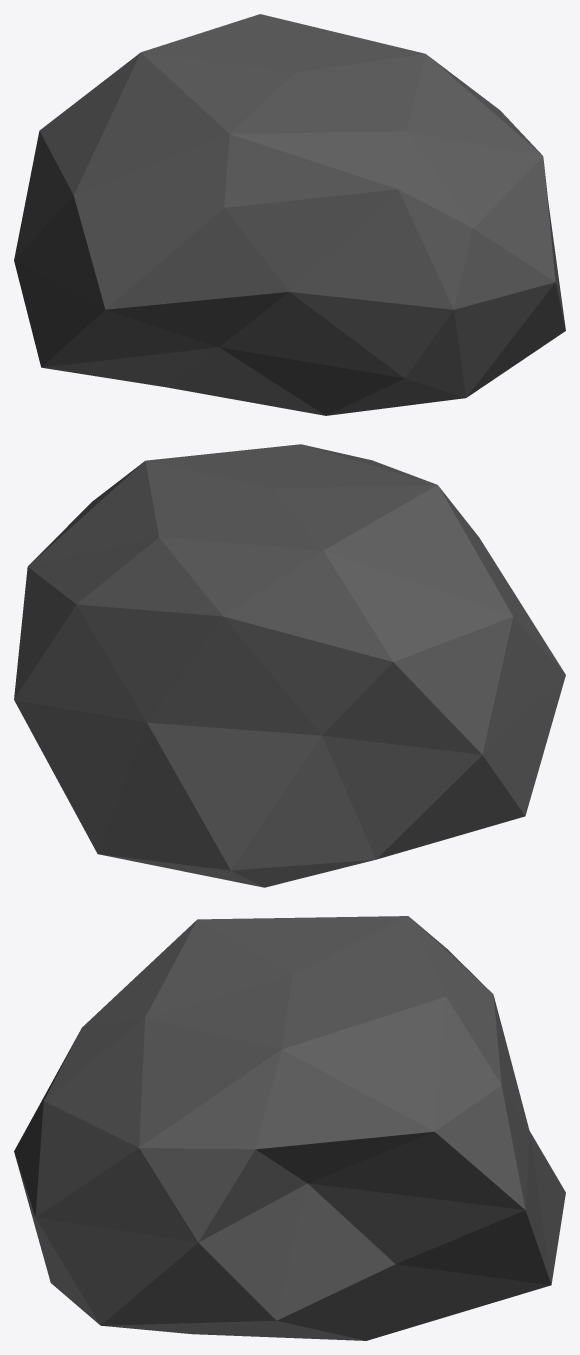
Rendered from stone1.fbx.
The picture shows the model from 3 angles, top to bottom: view 1: azimuth 30°, elevation 25°; view 2: azimuth 150°, elevation 25°; view 3: azimuth 270°, elevation 25°; orthographic projection. The views are drawn at different scales.
Visible parts, largest first — view 1: stone1; view 2: stone1; view 3: stone1.
Boxes of the visible parts, bbox=[...] form: stone1: bbox=[14, 14, 565, 415]; stone1: bbox=[14, 444, 565, 887]; stone1: bbox=[14, 916, 565, 1340].
Bounding box in the file's own units: 64.48 × 43.02 × 63.
